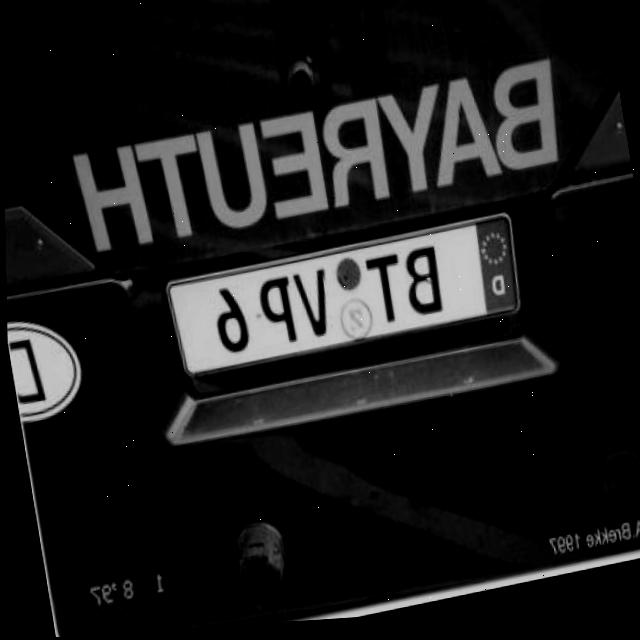license-plates: (166, 214, 519, 376)
